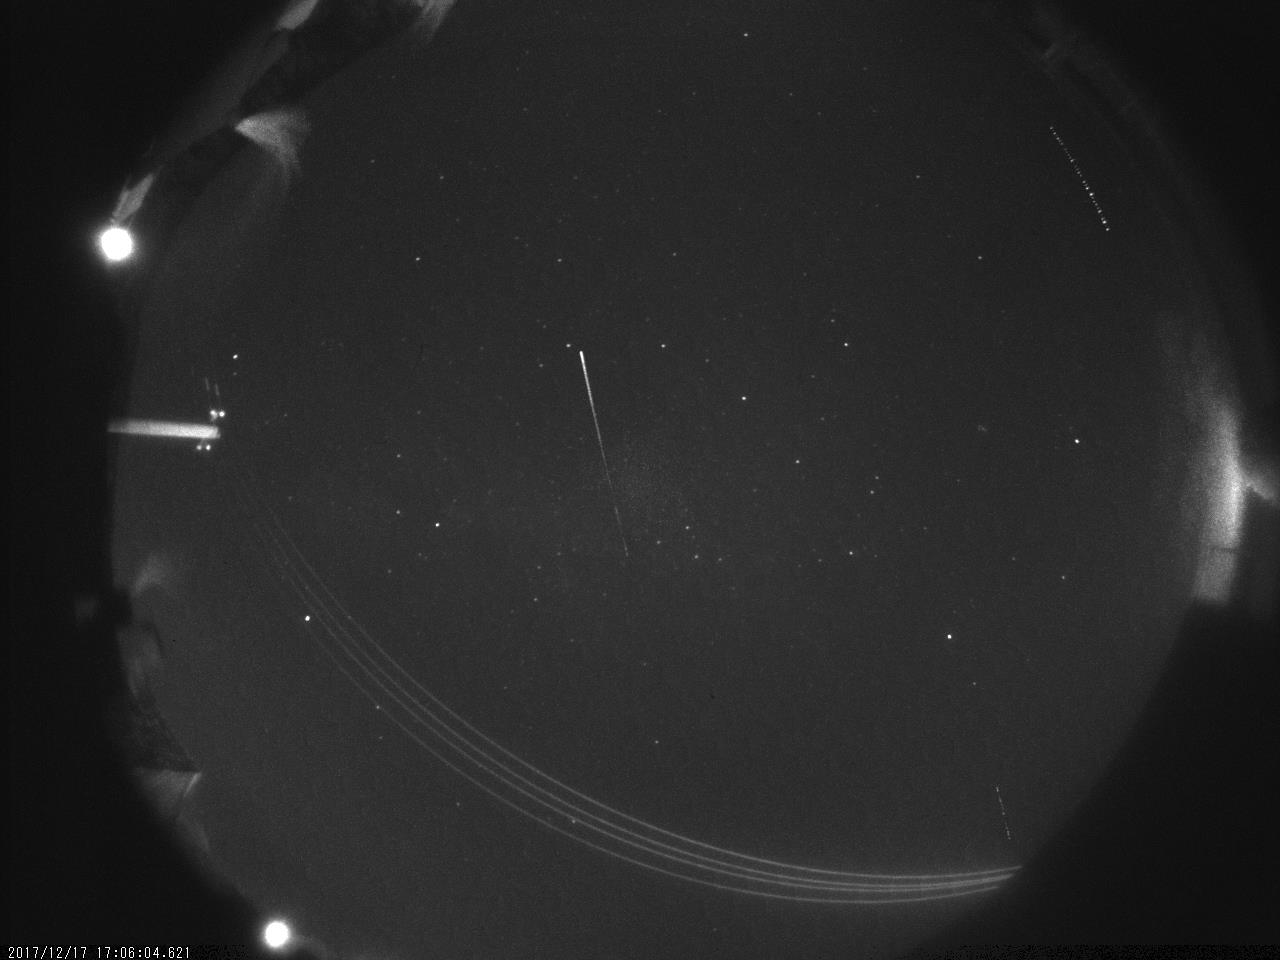meteor: (573, 346, 620, 499)
satelite: (1039, 117, 1120, 242), (986, 781, 1018, 842)
